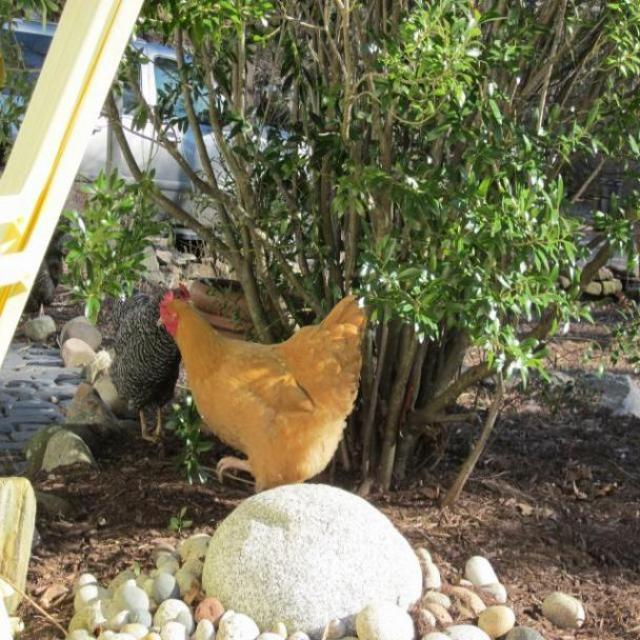Chicken: (158, 292, 362, 491)
